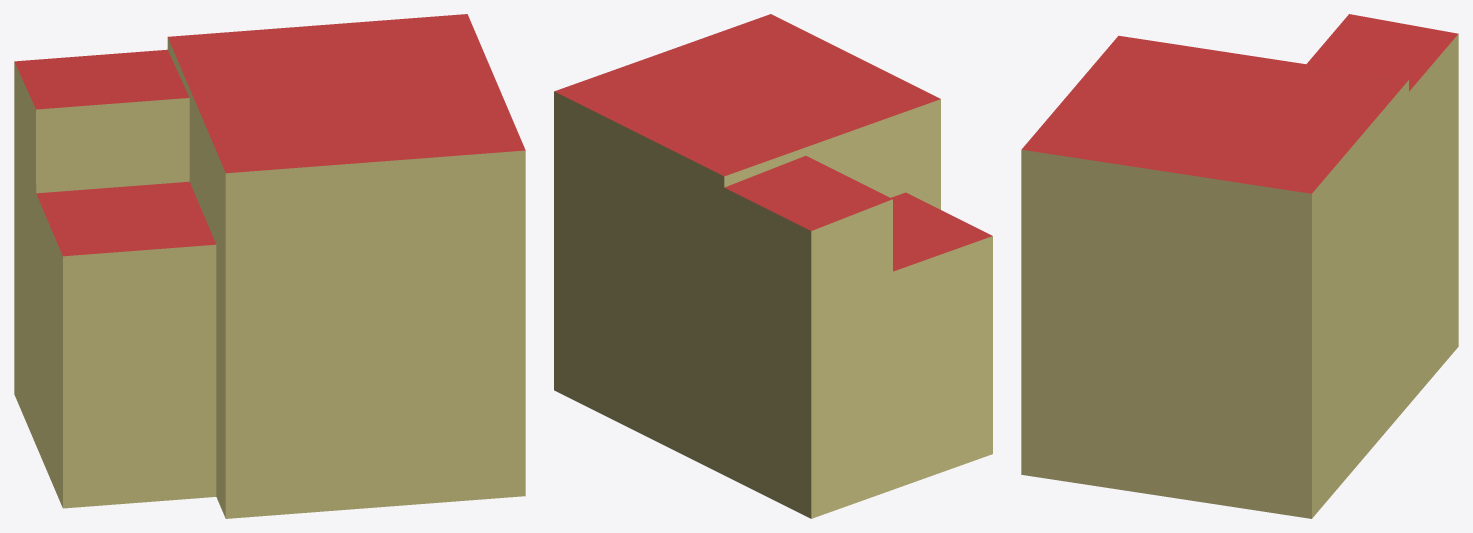
3 views of the same model, side by side, from view 1: azimuth 30°, elevation 25°; view 2: azimuth 150°, elevation 25°; view 3: azimuth 270°, elevation 25° (orthographic). The views are drawn at different scales.
Size of the model in its own units: 16.38 by 14.46 by 11.86.
